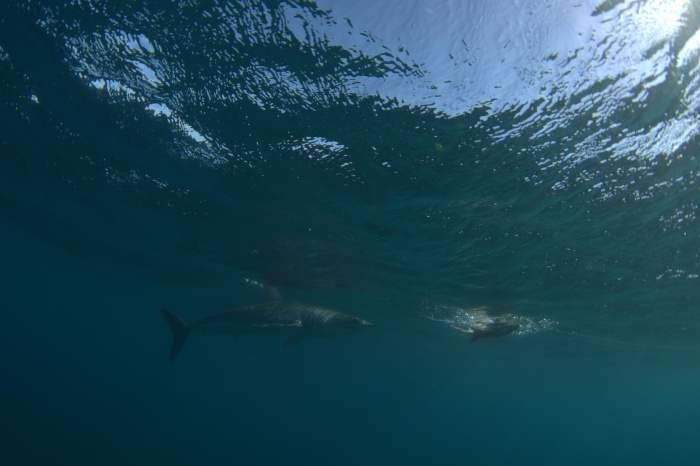Mako: (135, 267, 389, 371)
